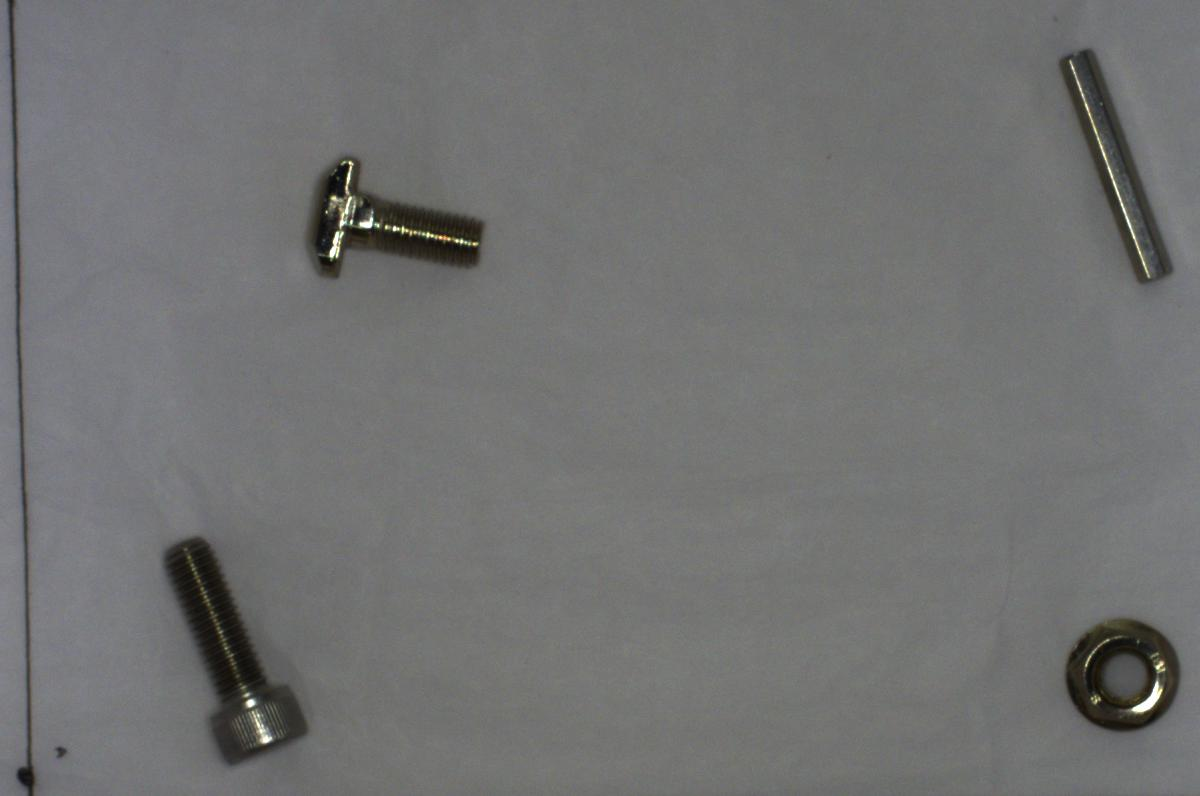Double hexagonal column: (1053, 39, 1185, 293)
Flange nut: (1054, 609, 1188, 734)
Hexagon screw: (151, 526, 318, 769)
T-shaped screw: (288, 148, 499, 289)
